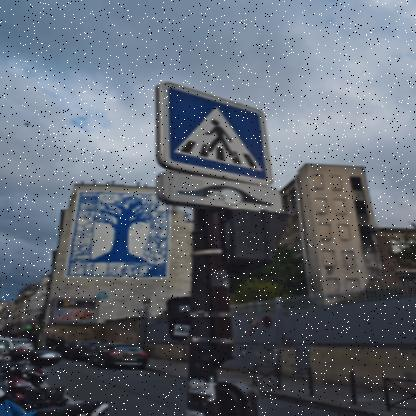Pedestrian Crossing: (173, 95, 268, 178)
